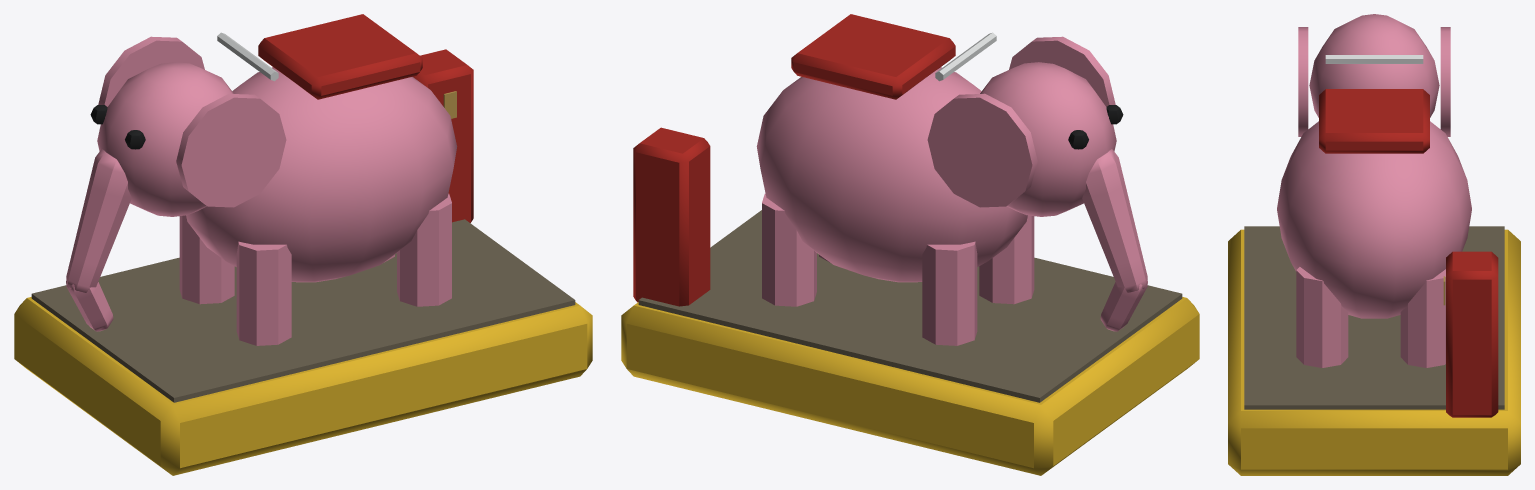
The model's file is kiddie_ride.glb.
3 renders of one model, left to right at view 1: azimuth 30°, elevation 25°; view 2: azimuth 150°, elevation 25°; view 3: azimuth 270°, elevation 25°, orthographic. The views are drawn at different scales.
Parts seen in each view (by area): view 1: KiddieRide; view 2: KiddieRide; view 3: KiddieRide.
Boxes of the visible parts, box(x1,y1,x2,y2) form: KiddieRide: box(14, 14, 592, 475); KiddieRide: box(621, 14, 1199, 475); KiddieRide: box(1228, 14, 1520, 475).
Bounding box in the file's own units: 1.46 × 1.04 × 0.9.
